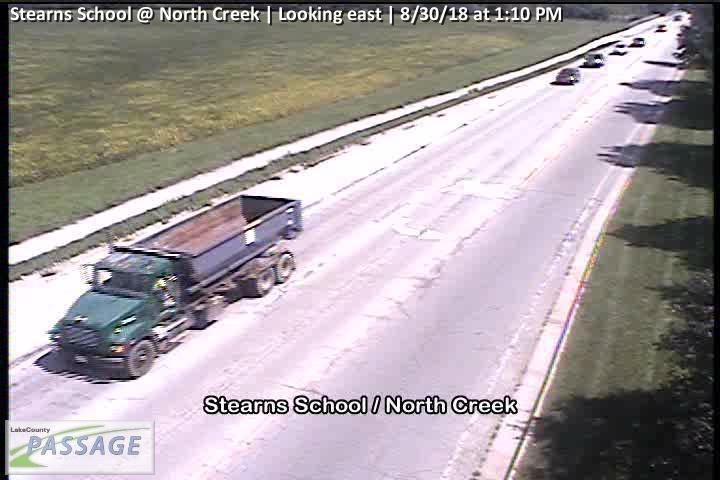Sedan: (556, 67, 581, 84)
Truck: (43, 192, 306, 381)
